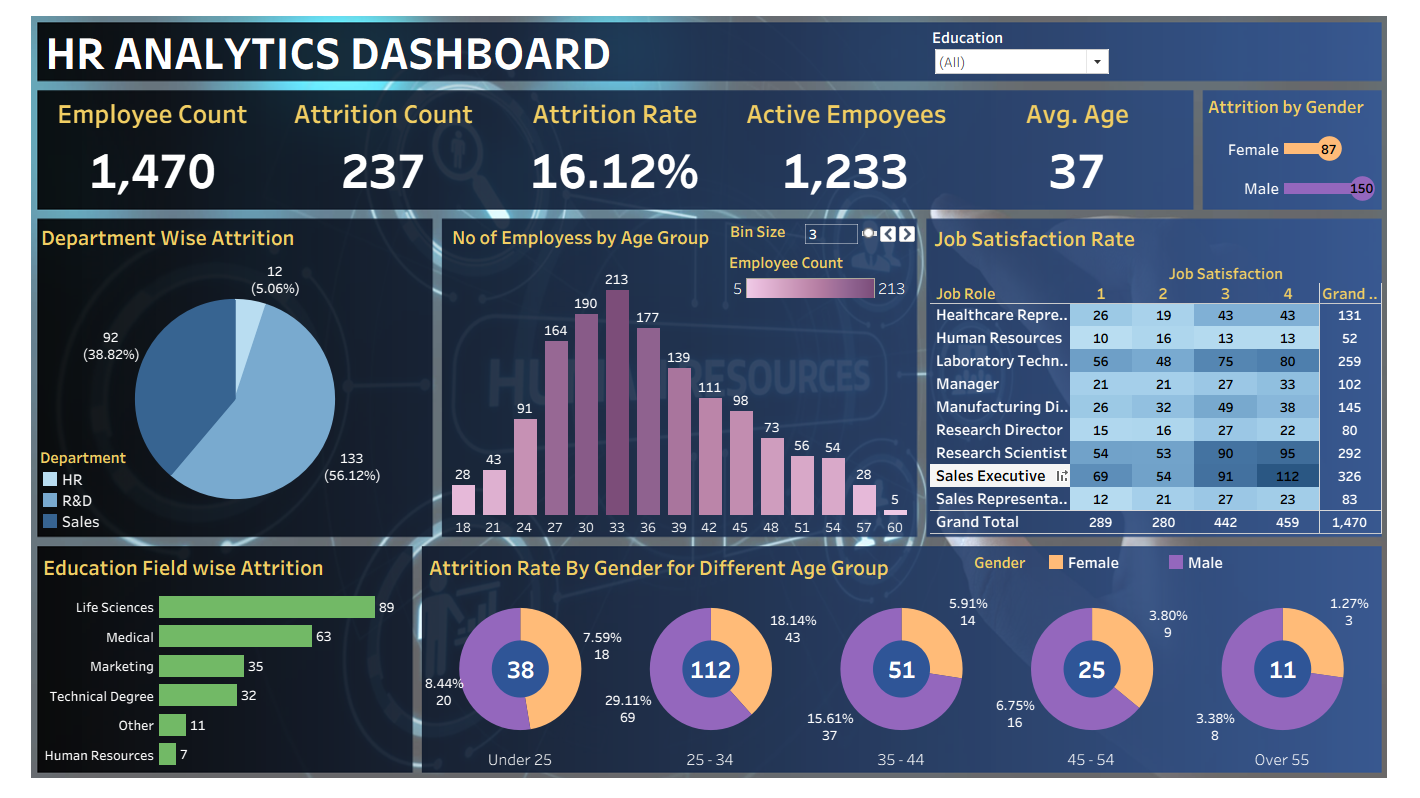

Layout of this report page (visuals, bound fields, positions):
{"tool":"tableau","page":{"name":"HR ANALYTICS DASHBOARD","canvas":[1380,801],"ordinal":0},"visuals":[{"type":"image","param":"Image/HR background.png","box":[8,8,1364,785]},{"type":"text","box":[23,27,689,55]},{"type":"filter","title":"No of Employess by Age Group","param":"[federated.034x0uv0nr27eg1a85wp813pz5qa].[none:Education:nk]","box":[913,30,180,48]},{"type":"worksheet","title":"KPI","mark":"Automatic","box":[18,93,1156,119]},{"type":"worksheet","title":"Attrition by Gender","mark":"Automatic","rows":["Gender"],"cols":["Calculation_682858319179841536","Calculation_682858319179841536"],"box":[1185,93,175,118]},{"type":"worksheet","title":"Department Wise Attrition","mark":"Pie","box":[18,222,396,317]},{"type":"worksheet","title":"No of Employess by Age Group","mark":"Automatic","rows":["Employee Count"],"cols":["Age (bin)"],"box":[429,223,463,317]},{"type":"worksheet","title":"Job Satisfaction Rate","mark":"Square","rows":["Job Role"],"cols":["Job Satisfaction"],"box":[911,223,452,314]},{"type":"parameter","param":"[Parameters].[Parameter 1]","box":[711,224,188,31]},{"type":"legend","title":"No of Employess by Age Group","param":"[federated.034x0uv0nr27eg1a85wp813pz5qa].[sum:Employee Count:qk]","box":[710,255,181,46]},{"type":"legend","title":"Department Wise Attrition","param":"[federated.034x0uv0nr27eg1a85wp813pz5qa].[none:Department:nk]","box":[21,450,92,85]},{"type":"worksheet","title":"Education Field wise Attrition","mark":"Automatic","rows":["Education Field"],"cols":["Calculation_682858319179841536"],"box":[20,552,372,220]},{"type":"worksheet","title":"Attrition Rate By Gender for Different Age Group","mark":"Pie","rows":["Calculation_682858319206576134","Calculation_682858319206576134"],"cols":["CF_age band"],"box":[406,552,953,222]},{"type":"legend","title":"Attrition Rate By Gender for Different Age Group","param":"[federated.034x0uv0nr27eg1a85wp813pz5qa].[none:Gender:nk]","box":[955,555,328,28]}]}

Visuals, with their boxes in screenshot pixels (x1, y1, x2, y2):
image: x1=34, y1=0, x2=1375, y2=772
text: x1=49, y1=19, x2=726, y2=73
"No of Employess by Age Group" filter: x1=924, y1=22, x2=1101, y2=69
"KPI" worksheet: x1=44, y1=84, x2=1180, y2=201
"Attrition by Gender" worksheet: x1=1191, y1=84, x2=1363, y2=200
"Department Wise Attrition" worksheet (Pie marks): x1=44, y1=211, x2=433, y2=523
"No of Employess by Age Group" worksheet: x1=448, y1=212, x2=903, y2=524
"Job Satisfaction Rate" worksheet (Square marks): x1=922, y1=212, x2=1366, y2=521
parameter: x1=725, y1=213, x2=910, y2=243
"No of Employess by Age Group" legend: x1=724, y1=243, x2=902, y2=289
"Department Wise Attrition" legend: x1=47, y1=435, x2=137, y2=519
"Education Field wise Attrition" worksheet: x1=46, y1=535, x2=411, y2=752
"Attrition Rate By Gender for Different Age Group" worksheet (Pie marks): x1=425, y1=535, x2=1362, y2=754
"Attrition Rate By Gender for Different Age Group" legend: x1=965, y1=538, x2=1288, y2=566
